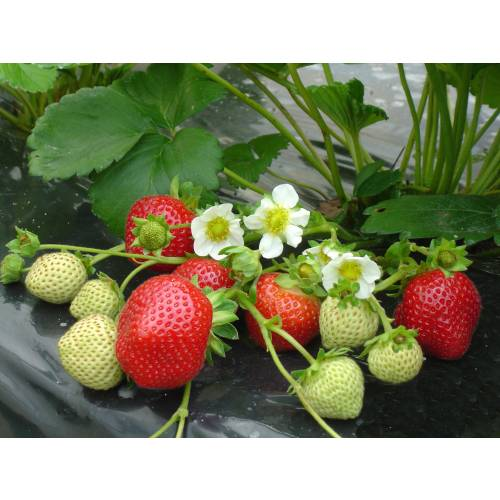ripe_strawberry: (114, 273, 216, 393), (392, 266, 485, 364), (245, 271, 321, 354), (126, 194, 198, 273), (174, 255, 239, 291)
unripe_strawberry: (57, 313, 125, 392), (296, 355, 366, 422), (320, 295, 381, 353), (365, 330, 426, 388), (24, 252, 89, 306), (68, 277, 127, 322), (135, 217, 171, 254)
